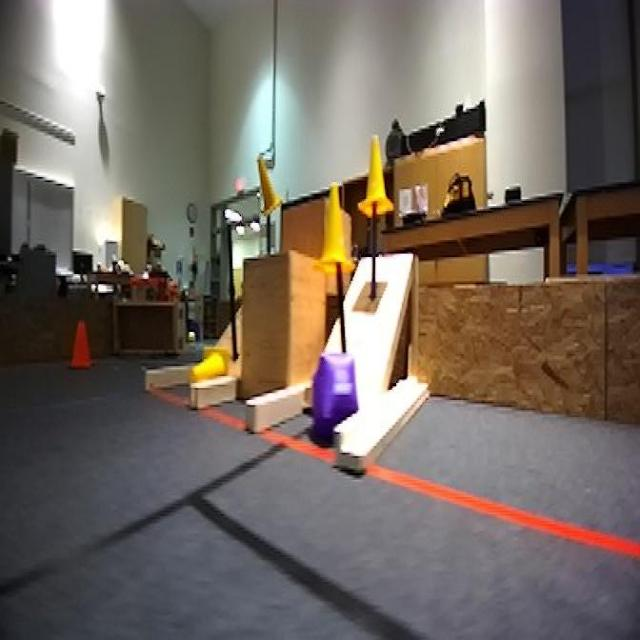frc_cone: (319, 182, 356, 274), (359, 139, 391, 218), (190, 342, 232, 390), (256, 155, 282, 216)
frc_cube: (303, 350, 362, 436)
